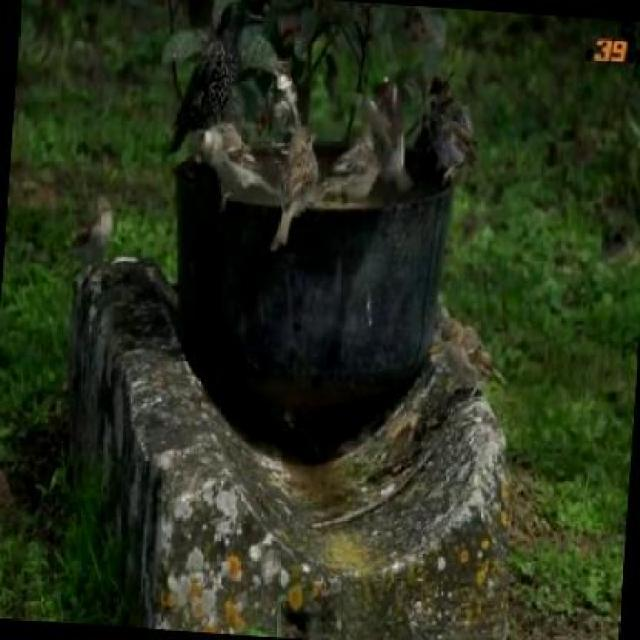Bird: (197, 121, 282, 208), (268, 125, 321, 251), (417, 77, 479, 184), (319, 136, 385, 204), (63, 192, 116, 267), (368, 78, 406, 180), (259, 66, 301, 138)
